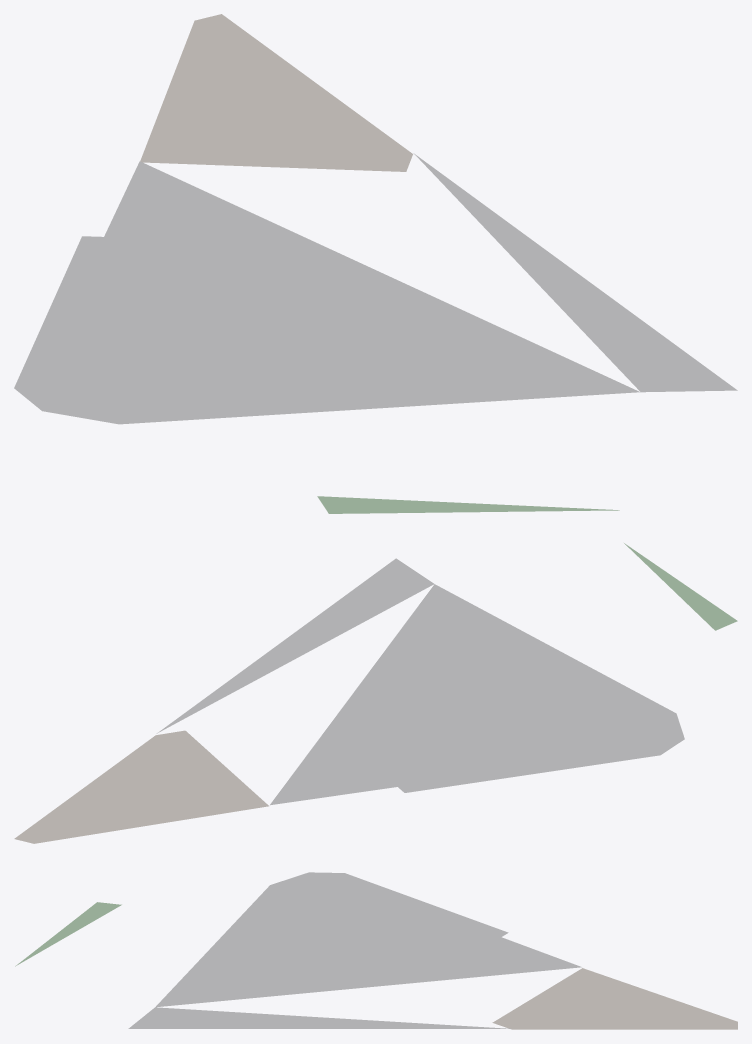
File: 102_116_mid.glb
3 views of the same model, one above another, from view 1: azimuth 30°, elevation 25°; view 2: azimuth 150°, elevation 25°; view 3: azimuth 270°, elevation 25° (orthographic). The views are drawn at different scales.
Bounding box in the file's own units: 195 × 1.17 × 382.
